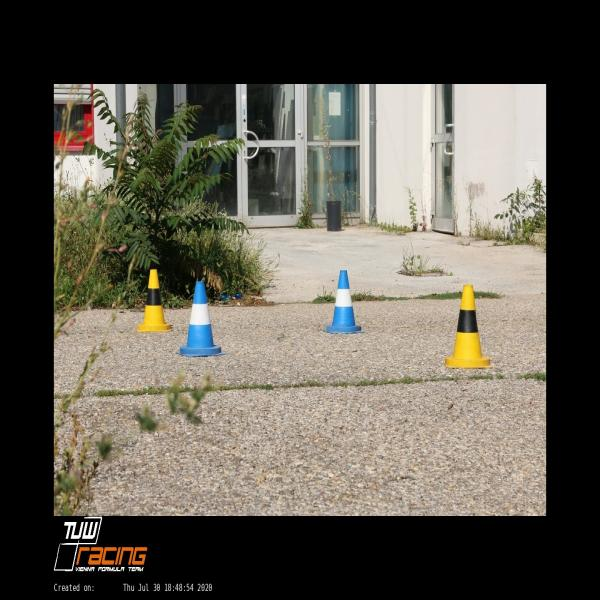blue_cone: (176, 282, 226, 358), (322, 270, 363, 334)
yellow_cone: (444, 284, 493, 368), (136, 269, 172, 332)
